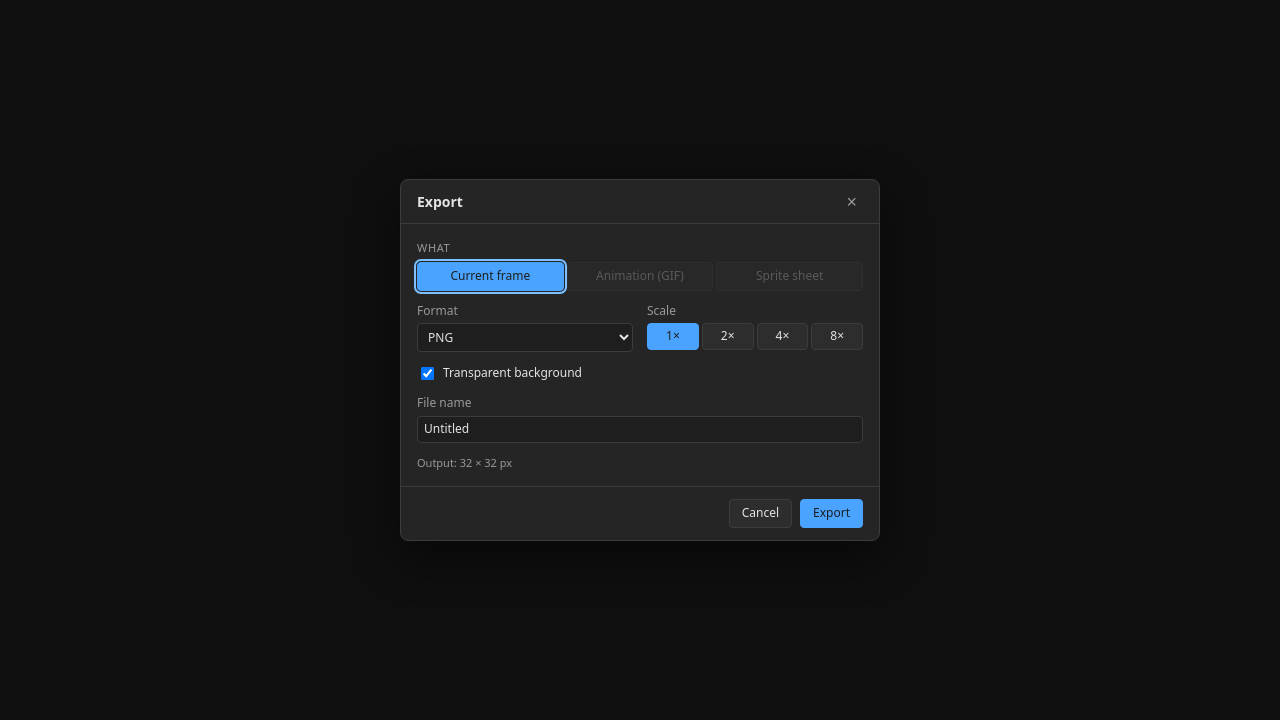
Test: ExportDialog › shows the scaled output dimensions
Click the button "2×" at [728, 337], box x1=702 y1=323 x2=754 y2=350
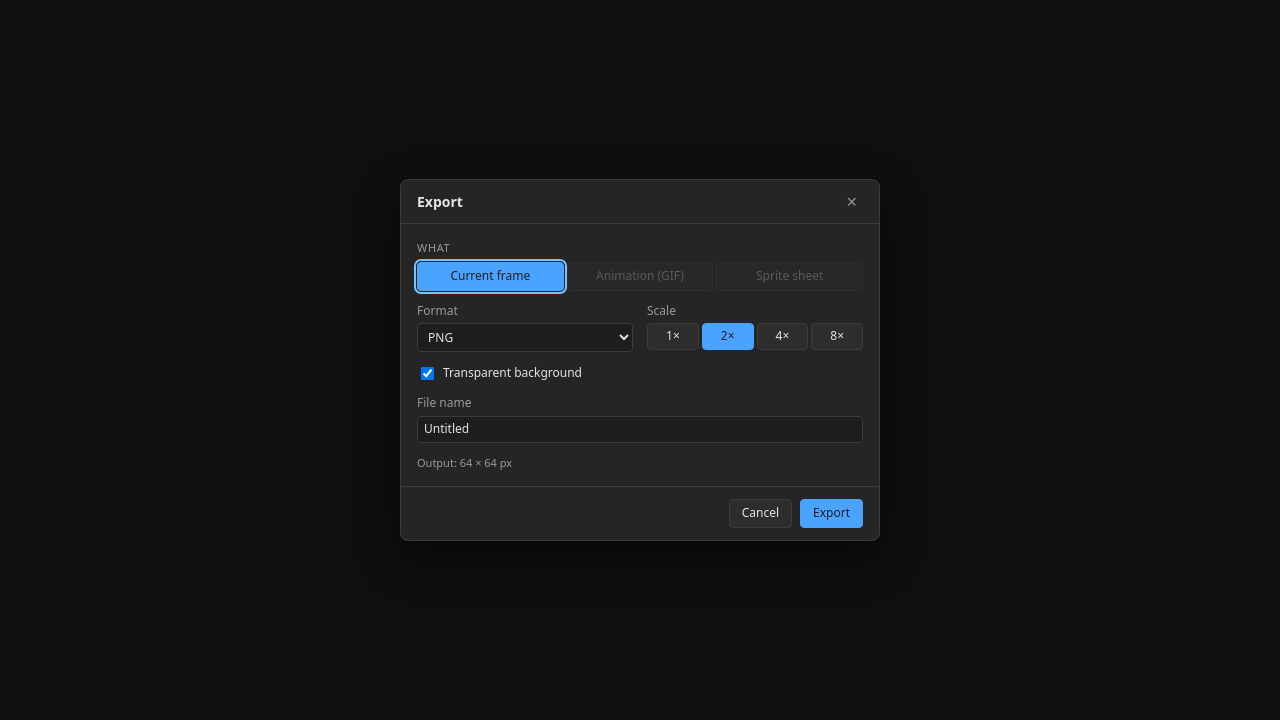
Expected: the text with test id "export-output-size" reads "Output: 64 × 64 px", x1=417 y1=455 x2=512 y2=470
